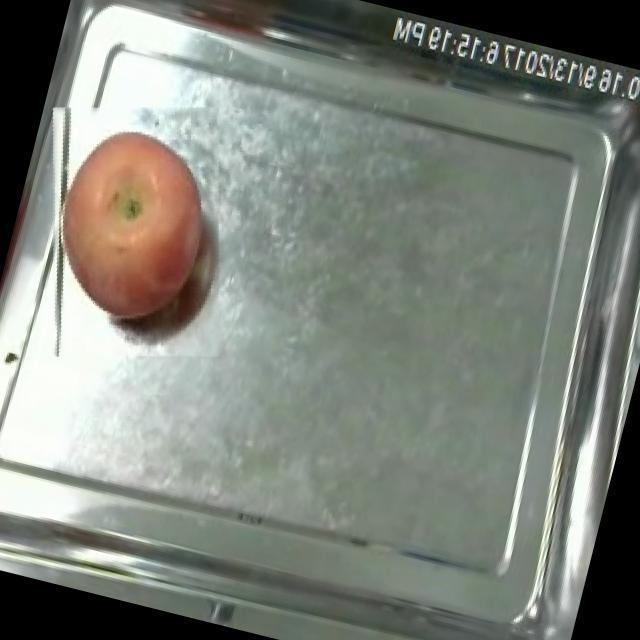apple: (62, 131, 203, 319)
